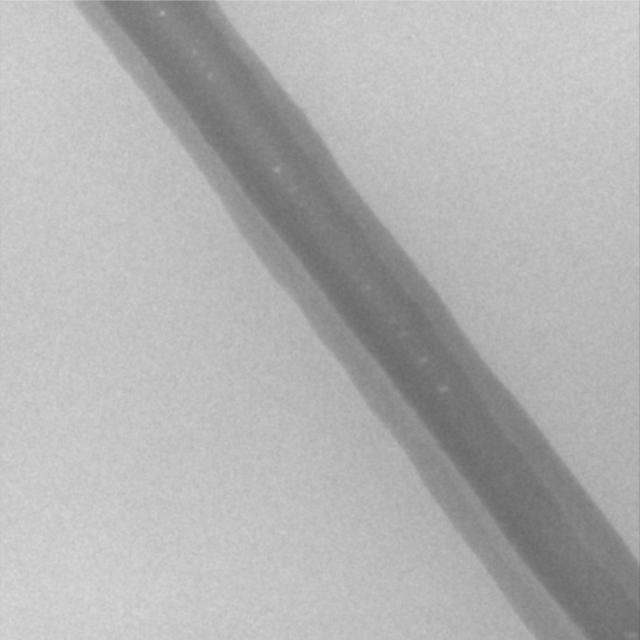air hole: (438, 384, 449, 394), (417, 355, 427, 365), (271, 165, 280, 175), (158, 9, 166, 17)
